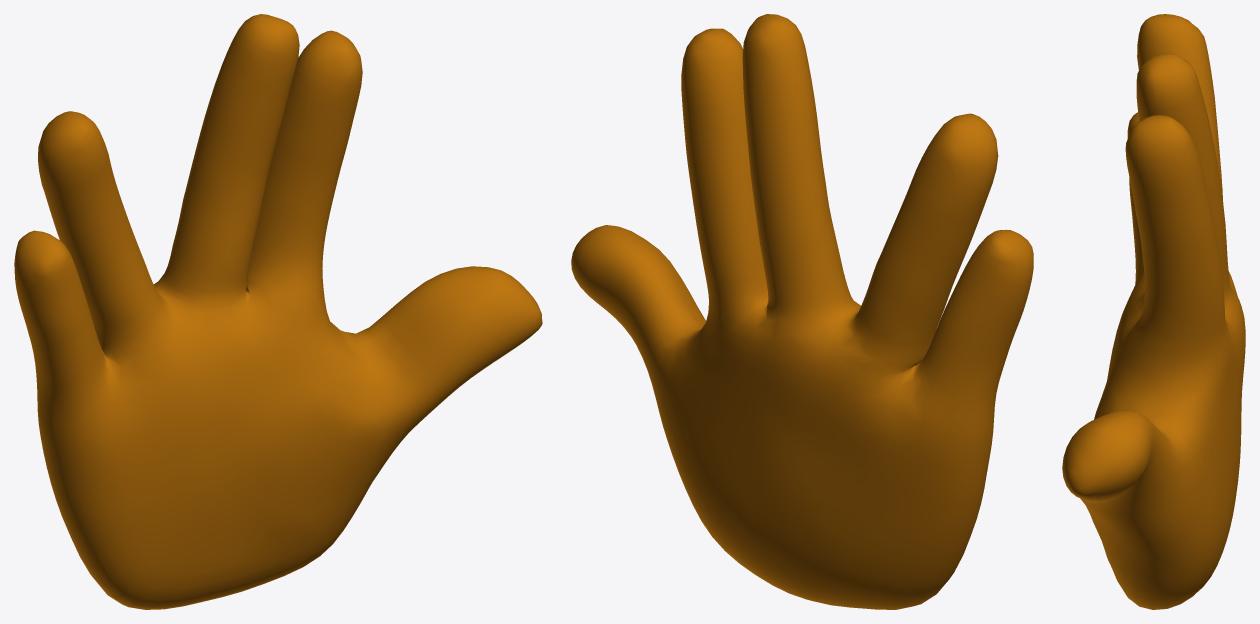
File: Vulcan salute.FBX
3 views of the same model, side by side, from view 1: azimuth 30°, elevation 25°; view 2: azimuth 150°, elevation 25°; view 3: azimuth 270°, elevation 25° (orthographic).
Visible parts, largest first — view 1: Group54700; view 2: Group54700; view 3: Group54700.
Boxes of the visible parts, x1=… form: Group54700: x1=14, y1=14, x2=542, y2=609; Group54700: x1=571, y1=14, x2=1033, y2=609; Group54700: x1=1062, y1=14, x2=1245, y2=609.
Bounding box in the file's own units: 13.81 × 15.41 × 4.6.
